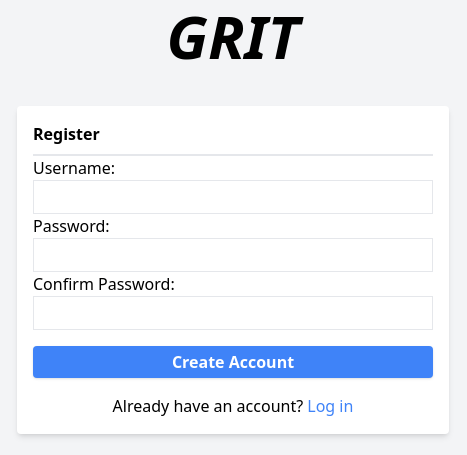
Register Page › routes to the login page
Click the link with test id "login-link" at {"x": 330, "y": 406}, box [307, 395, 353, 417]
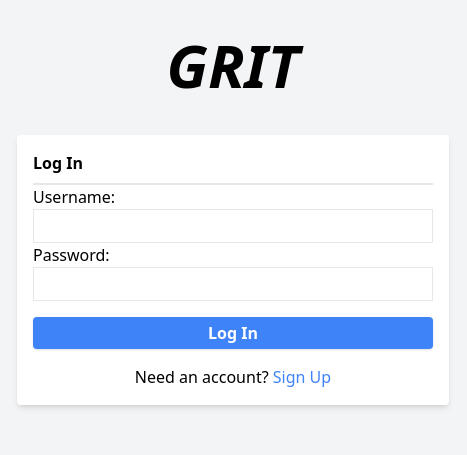
Expected: the text with test id "form-title" reads "Log In", [33, 152, 83, 174]
